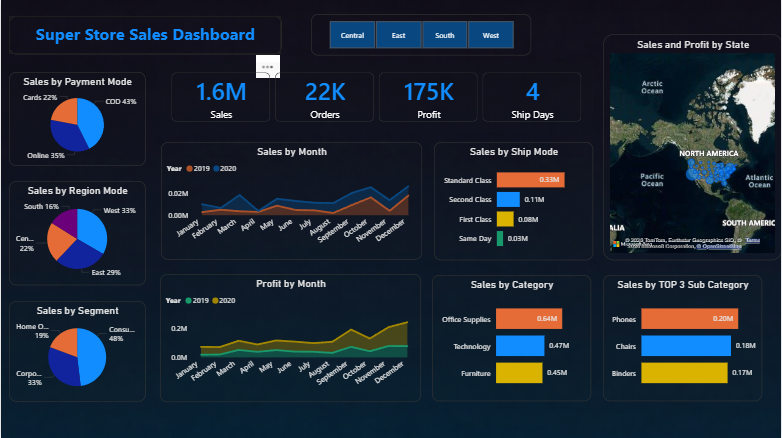

The dashboard page shown, as its layout file describes it:
{"tool":"powerbi","page":{"name":"Sales Analysis","canvas":[1280,720],"ordinal":0},"visuals":[{"type":"clusteredBarChart","title":"Sales by Category","fields":{"Y":["Sum(SuperStore Sales DataSet.Sales)"],"Category":["SuperStore Sales DataSet.Category"]},"box":[706.9,451.4,261.1,206.9],"z":0},{"type":"clusteredBarChart","title":"Sales by  TOP 3 Sub Category","fields":{"Y":["Sum(SuperStore Sales DataSet.Sales)"],"Category":["SuperStore Sales DataSet.Sub-Category"]},"box":[986.1,451.4,261.1,206.9],"z":1000},{"type":"clusteredBarChart","title":"Sales by Ship Mode","fields":{"Y":["Sum(SuperStore Sales DataSet.Sales)"],"Category":["SuperStore Sales DataSet.Ship Mode"]},"box":[709.7,233.3,261.1,194.4],"z":2000},{"type":"stackedAreaChart","title":"Profit by Month","fields":{"Category":["SuperStore Sales DataSet.Order Date.Variation.Date Hierarchy.Month"],"Y":["Sum(SuperStore Sales DataSet.Sales)"],"Series":["SuperStore Sales DataSet.Order Date.Variation.Date Hierarchy.Year"]},"box":[261.1,448.6,427.8,209.7],"z":3000},{"type":"stackedAreaChart","title":"Sales by  Month","fields":{"Category":["SuperStore Sales DataSet.Order Date.Variation.Date Hierarchy.Month"],"Series":["SuperStore Sales DataSet.Order Date.Variation.Date Hierarchy.Year"],"Y":["Sum(SuperStore Sales DataSet.Profit)"]},"box":[262.5,233.3,427.8,193.1],"z":4000},{"type":"map","title":"Sales and  Profit by State","fields":{"Size":["Sum(SuperStore Sales DataSet.Sales)"],"Category":["SuperStore Sales DataSet.State"]},"box":[986.1,55.6,294.4,370.8],"z":5000},{"type":"pieChart","title":" Sales by Segment","fields":{"Category":["SuperStore Sales DataSet.Segment"],"Y":["Sum(SuperStore Sales DataSet.Sales)"]},"box":[12.5,493.1,223.6,165.3],"z":6000},{"type":"pieChart","title":"Sales by Payment Mode","fields":{"Y":["Sum(SuperStore Sales DataSet.Sales)"],"Category":["SuperStore Sales DataSet.Payment Mode"]},"box":[12.5,118.1,223.6,154.2],"z":7000},{"type":"slicer","fields":{"Values":["SuperStore Sales DataSet.Region"]},"box":[508.3,23.6,361.1,68.1],"z":8000},{"type":"textbox","box":[12.5,26.4,447.2,62.5],"z":9000},{"type":"cardVisual","fields":{"Data":["Sum(SuperStore Sales DataSet.Sales)","Sum(SuperStore Sales DataSet.Quantity)","Sum(SuperStore Sales DataSet.Profit)","Avg(SuperStore Sales DataSet.AvgDelivery)"]},"box":[262.5,101.4,708.3,115.3],"z":10000},{"type":"pieChart","title":"Sales by Region Mode","fields":{"Y":["Sum(SuperStore Sales DataSet.Sales)"],"Category":["SuperStore Sales DataSet.Region"]},"box":[12.5,297.2,223.6,170.8],"z":11000}]}

Visuals, with their boxes in screenshot pixels (x1, y1, x2, y2), scaled from the page's 1280x720 canvas onto the 782x438 screenshot:
"Sales by Category" clusteredBarChart: Rect(432, 275, 591, 400)
"Sales by  TOP 3 Sub Category" clusteredBarChart: Rect(602, 275, 762, 400)
"Sales by Ship Mode" clusteredBarChart: Rect(434, 142, 593, 260)
"Profit by Month" stackedAreaChart: Rect(160, 273, 421, 400)
"Sales by  Month" stackedAreaChart: Rect(160, 142, 422, 259)
"Sales and  Profit by State" map: Rect(602, 34, 781, 259)
" Sales by Segment" pieChart: Rect(8, 300, 144, 401)
"Sales by Payment Mode" pieChart: Rect(8, 72, 144, 166)
slicer - SuperStore Sales DataSet.Region: Rect(311, 14, 531, 56)
textbox: Rect(8, 16, 281, 54)
cardVisual - Sum(SuperStore Sales DataSet.Sales) x Sum(SuperStore Sales DataSet.Quantity): Rect(160, 62, 593, 132)
"Sales by Region Mode" pieChart: Rect(8, 181, 144, 285)
